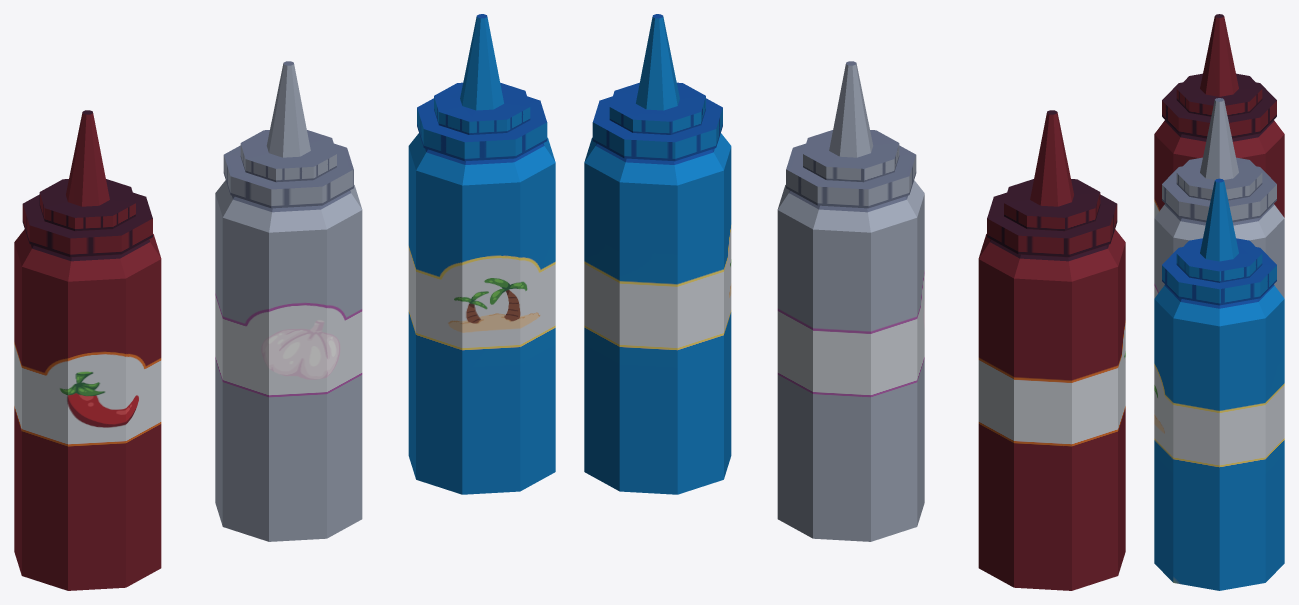
The model's file is f_sauces_02 (3).fbx.
3 views of the same model, side by side, from view 1: azimuth 30°, elevation 25°; view 2: azimuth 150°, elevation 25°; view 3: azimuth 270°, elevation 25° (orthographic). The views are drawn at different scales.
Parts seen in each view (by area): view 1: f_saucebottle_04, f_saucebottle_06, f_saucebottle_05; view 2: f_saucebottle_04, f_saucebottle_06, f_saucebottle_05; view 3: f_saucebottle_06, f_saucebottle_04, f_saucebottle_05.
Part boxes in pixels (bbox=[...]): f_saucebottle_04: bbox=[14, 110, 161, 590]; f_saucebottle_06: bbox=[408, 14, 555, 494]; f_saucebottle_05: bbox=[215, 61, 362, 541]; f_saucebottle_04: bbox=[978, 110, 1125, 590]; f_saucebottle_06: bbox=[584, 14, 731, 494]; f_saucebottle_05: bbox=[777, 61, 924, 541]; f_saucebottle_06: bbox=[1154, 178, 1284, 590]; f_saucebottle_04: bbox=[1154, 14, 1284, 217]; f_saucebottle_05: bbox=[1154, 98, 1284, 298].
Size of the model in its own units: 0.5344 by 0.1341 by 0.4341.
